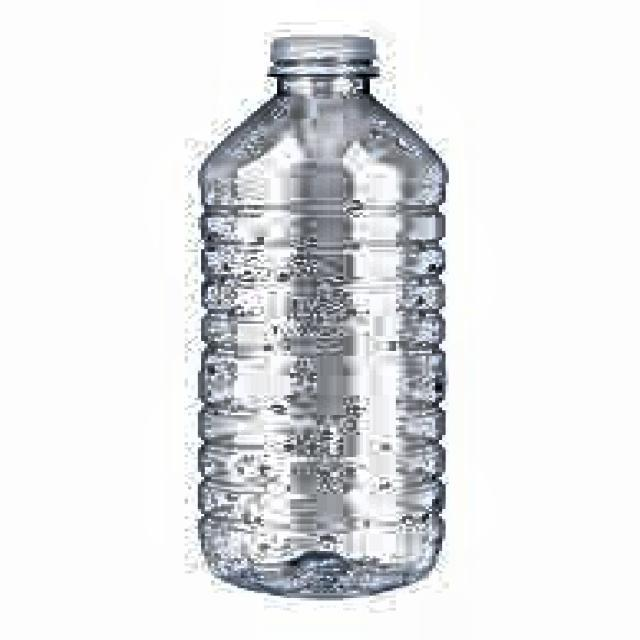plastic bottle: (200, 38, 446, 596)
